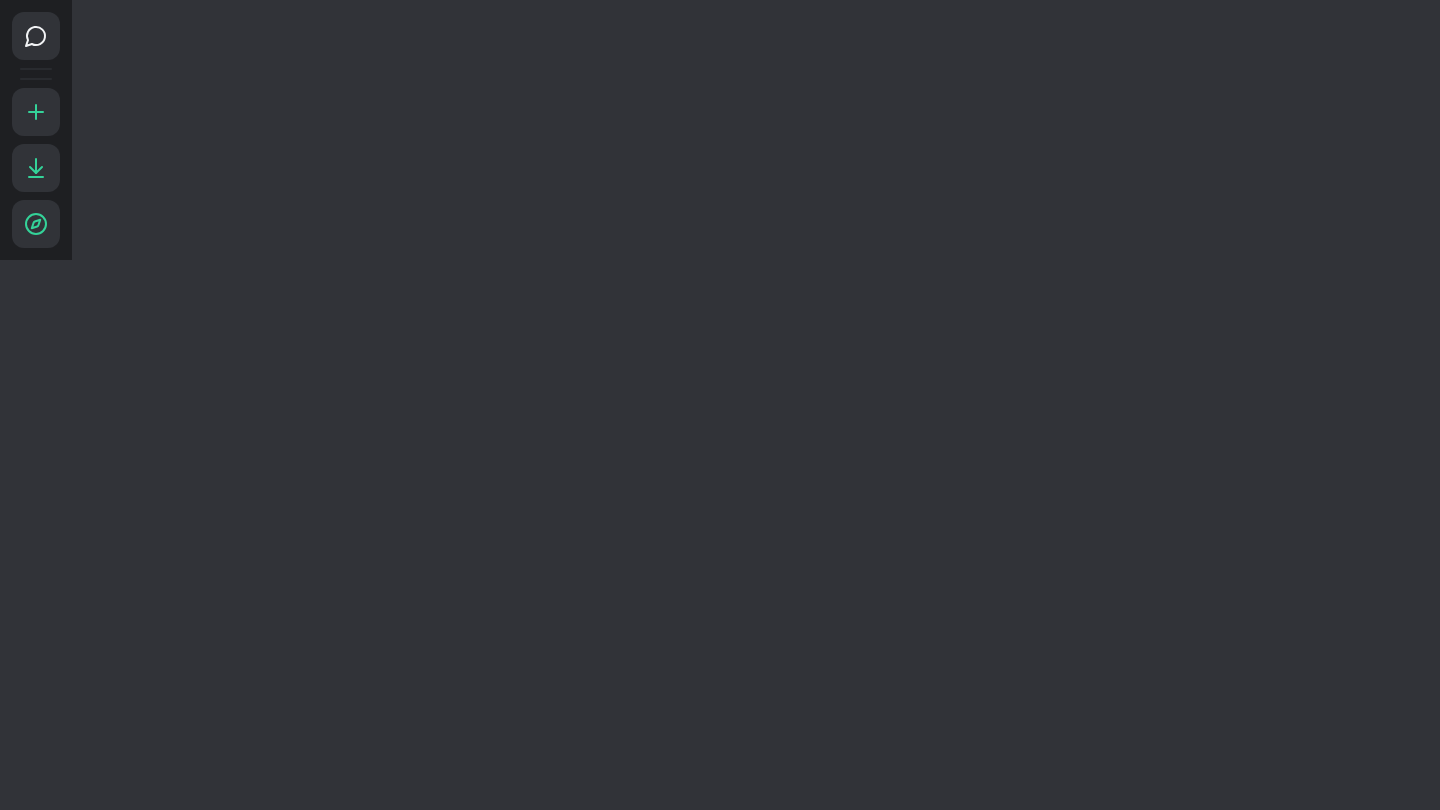
Test: ServerSidebar › opens create server modal on Add click
This screenshot has width=1440, height=810.
Click the button titled "Add a Server". click: (36, 112)
box: [12,88,60,136]
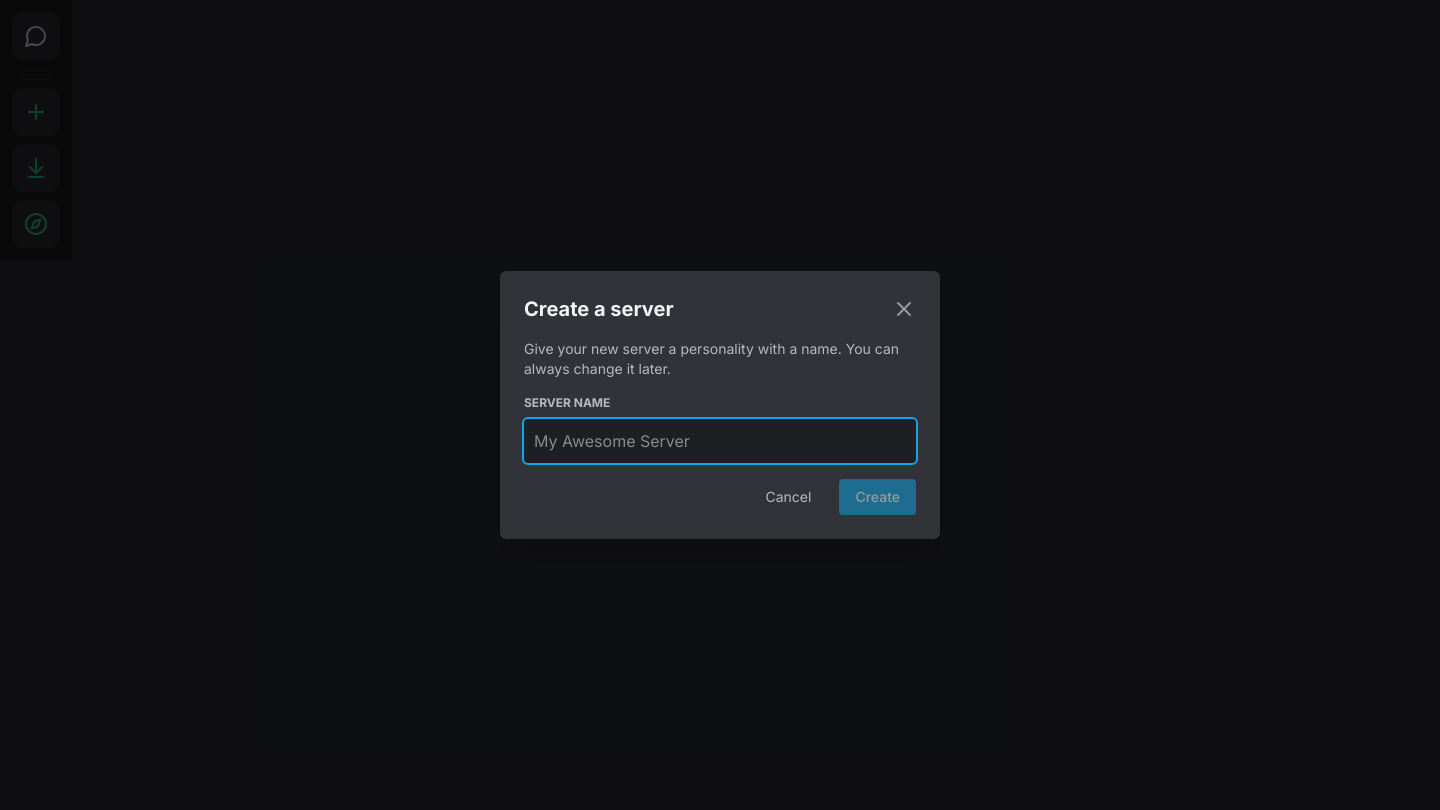
Check: the heading "Create a server" is shown, box [524,295,674,323]
